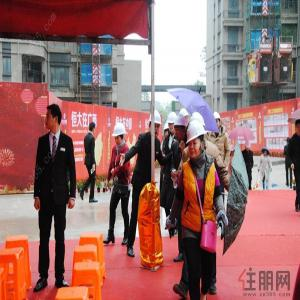none: (45, 102, 62, 134), (89, 122, 97, 134), (295, 119, 300, 138)
white: (187, 122, 207, 158), (150, 111, 163, 138), (113, 124, 127, 147), (175, 115, 187, 141), (169, 111, 177, 134), (214, 111, 222, 129), (164, 122, 170, 139), (245, 141, 251, 152)
